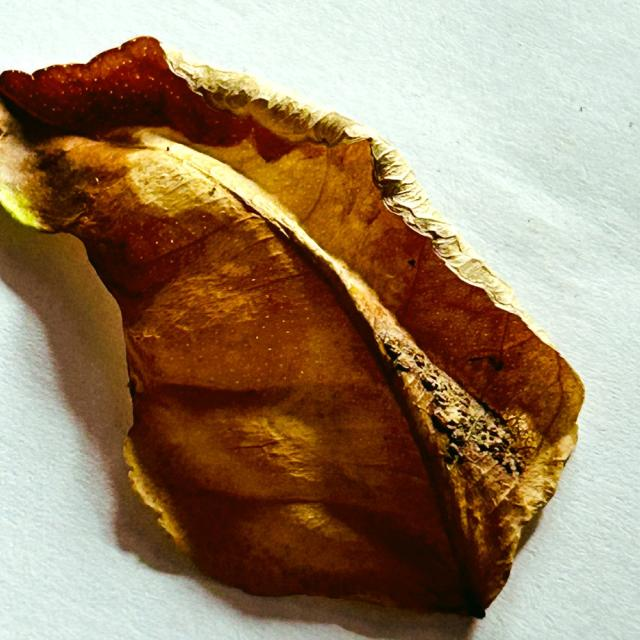DryLeaf_Lemon: (0, 37, 584, 617)
